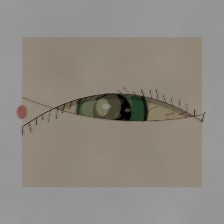corneal_ulcer: (69, 80, 134, 132)
